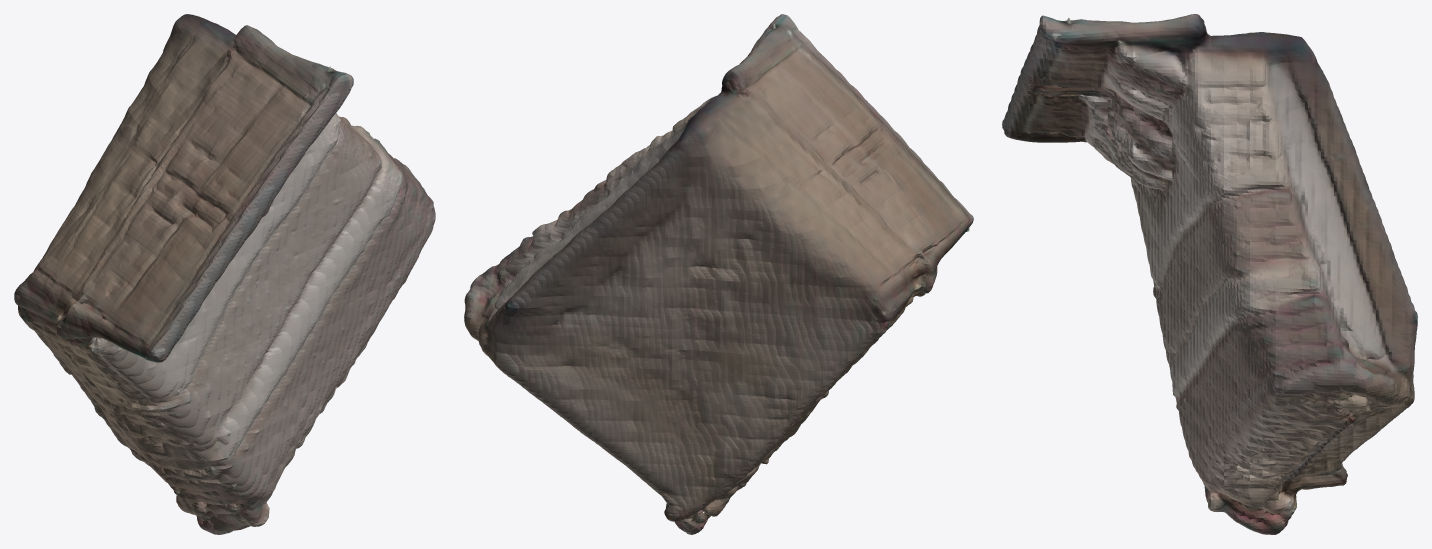
Rendered from mastersuite_model 2.glb.
3 views of the same model, side by side, from view 1: azimuth 30°, elevation 25°; view 2: azimuth 150°, elevation 25°; view 3: azimuth 270°, elevation 25° (orthographic). The views are drawn at different scales.
Parts seen in each view (by area): view 1: world; view 2: world; view 3: world.
Part boxes in pixels (x1,y1,x2,y2): world: (14, 14, 435, 534); world: (464, 14, 973, 534); world: (1002, 14, 1417, 534).
Size of the model in its own units: 1.06 by 1.2 by 0.8739.
